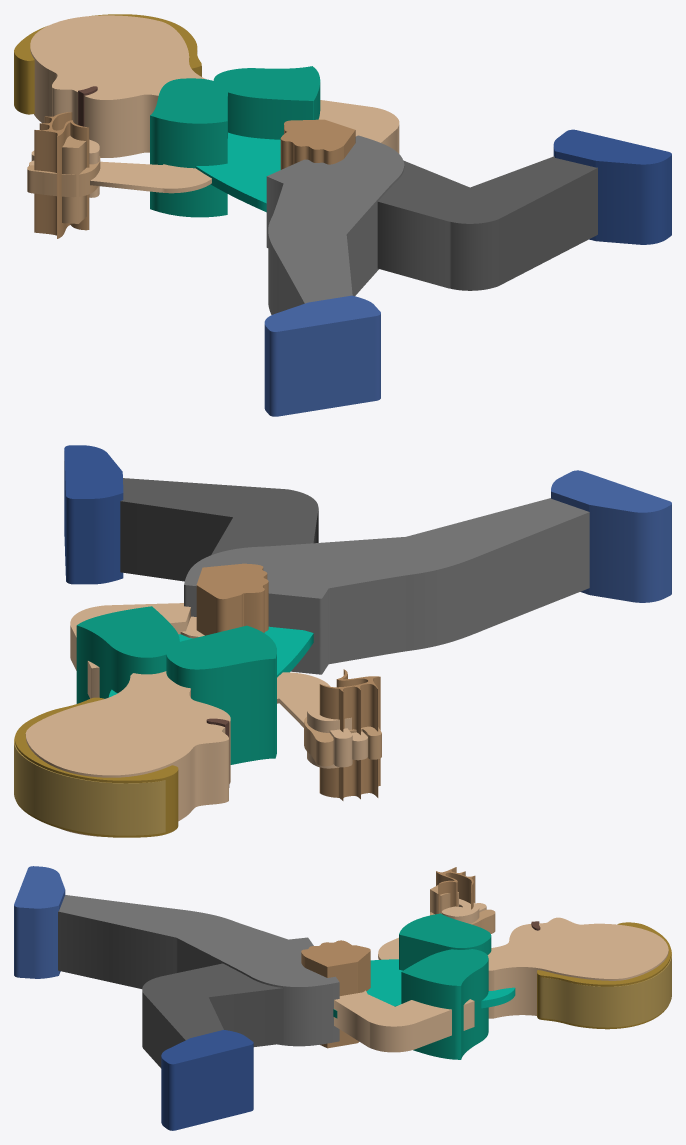
The model's file is emoji_u1f3c3_1f3fc_200d_2642.glb.
3 renders of one model, top to bottom at view 1: azimuth 30°, elevation 25°; view 2: azimuth 150°, elevation 25°; view 3: azimuth 270°, elevation 25°, orthographic. The views are drawn at different scales.
Visible parts, largest first — view 1: emoji_u1f3c3_1f3fc_200d_2642; view 2: emoji_u1f3c3_1f3fc_200d_2642; view 3: emoji_u1f3c3_1f3fc_200d_2642.
Boxes of the visible parts, <box> form: emoji_u1f3c3_1f3fc_200d_2642: <box>14,14,671,416</box>; emoji_u1f3c3_1f3fc_200d_2642: <box>14,445,671,837</box>; emoji_u1f3c3_1f3fc_200d_2642: <box>14,866,671,1130</box>.
Bounding box in the file's own units: 0.0228 × 0.0046 × 0.0322.
